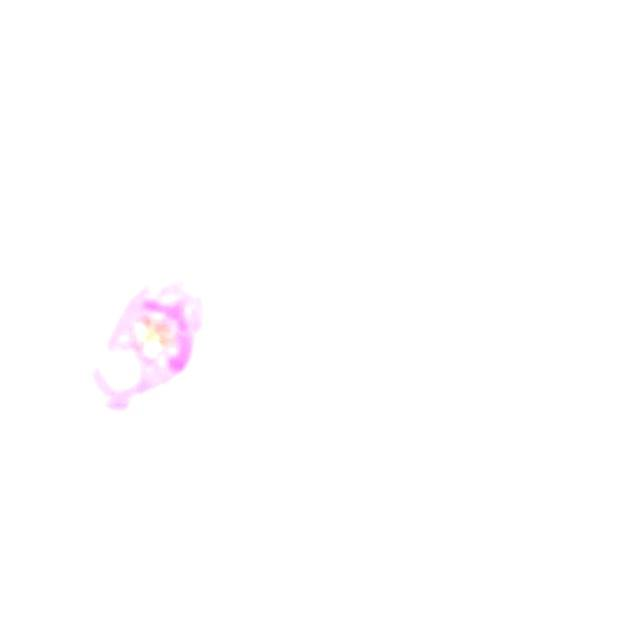Infected: (83, 281, 210, 424)
